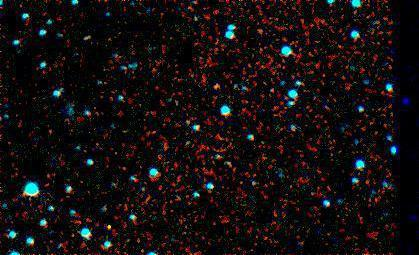star: (90, 215, 120, 245)
